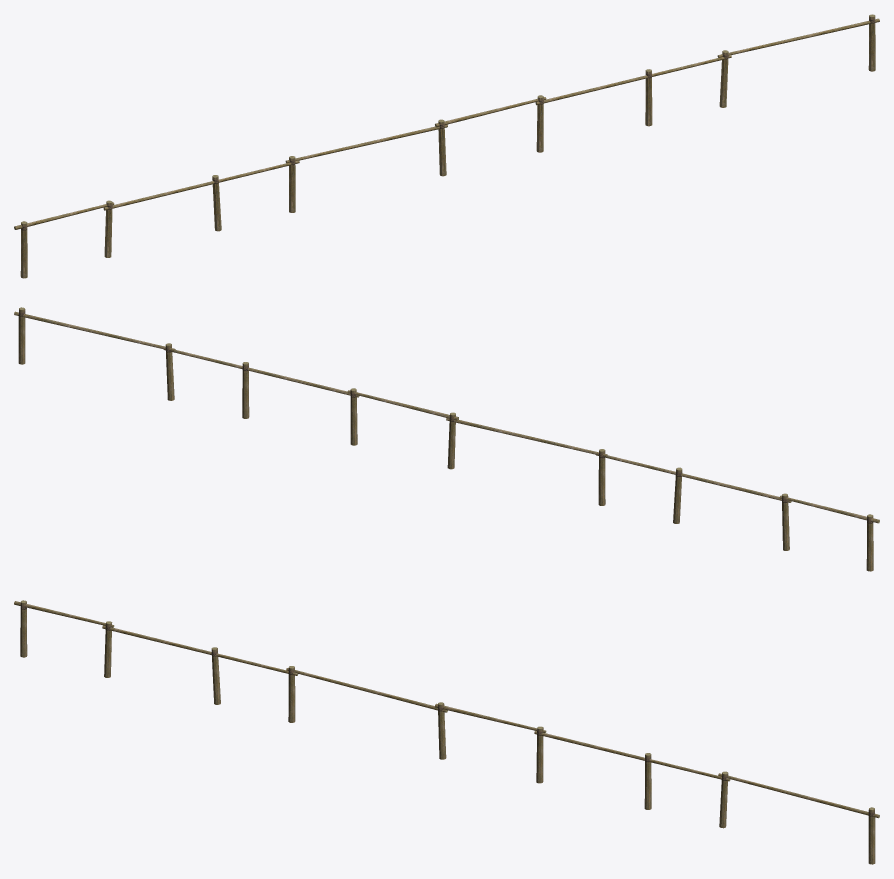
File: thm_endr_lake_rail16m_l0.fbx
3 renders of one model, top to bottom at view 1: azimuth 30°, elevation 25°; view 2: azimuth 150°, elevation 25°; view 3: azimuth 330°, elevation 25°, orthographic.
Visible parts, largest first — view 1: mesh_node; view 2: mesh_node; view 3: mesh_node.
Boxes of the visible parts, bbox=[...] form: mesh_node: bbox=[14, 14, 879, 278]; mesh_node: bbox=[14, 307, 879, 571]; mesh_node: bbox=[14, 600, 879, 864].
Size of the model in its own units: 16 by 0.9662 by 0.1197.
